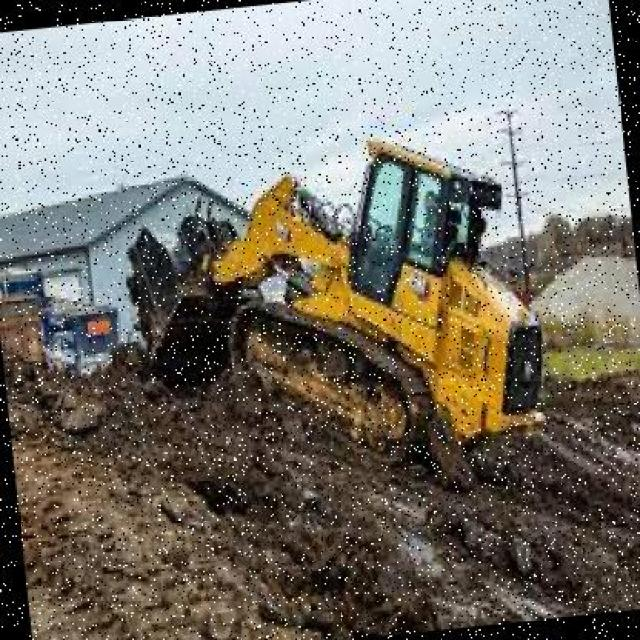buldozerpayloadergrader: (111, 110, 560, 496)
